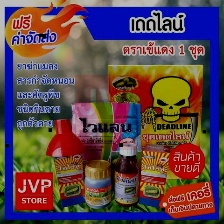book: (103, 61, 205, 184)
insecticide: (67, 98, 144, 190), (51, 144, 89, 208), (109, 140, 141, 208), (137, 142, 173, 201), (79, 157, 114, 210)
